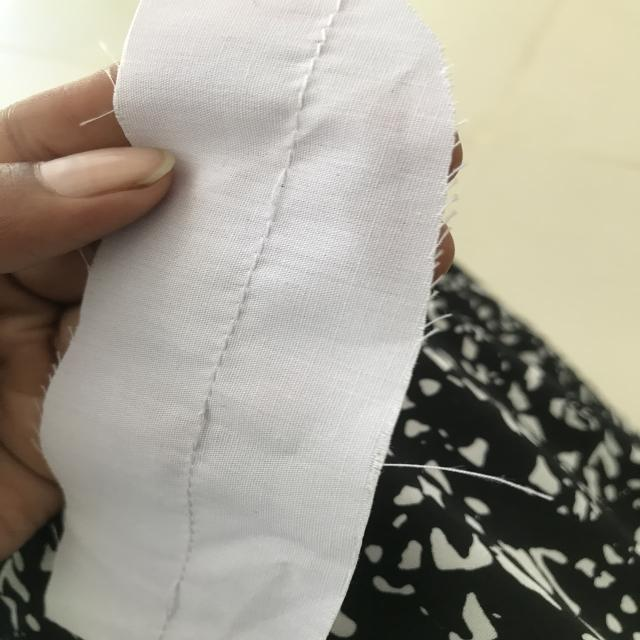skip: (250, 161, 311, 234)
